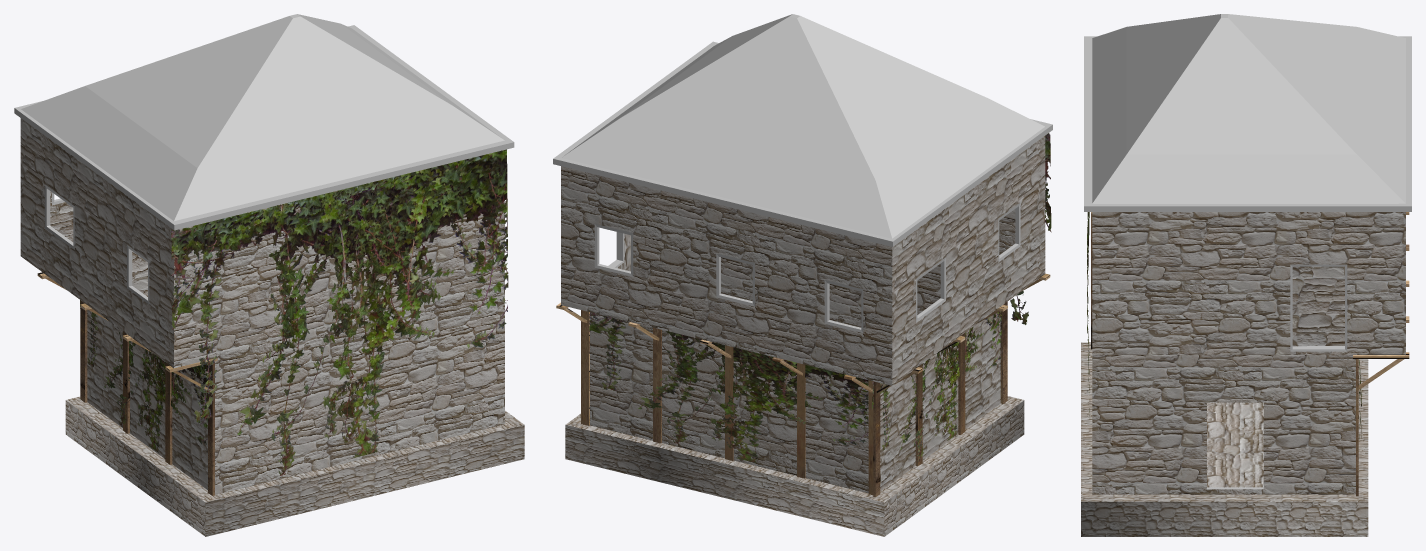
File: SM_House_5.fbx
3 renders of one model, left to right at view 1: azimuth 30°, elevation 25°; view 2: azimuth 150°, elevation 25°; view 3: azimuth 270°, elevation 25°, orthographic. The views are drawn at different scales.
Parts seen in each view (by area): view 1: vines.005; view 2: vines.005; view 3: vines.005.
Part boxes in pixels (x1,y1,x2,y2): vines.005: (14,14,524,536); vines.005: (553,14,1052,536); vines.005: (1081,14,1411,536).
Bounding box in the file's own units: 1080 × 1271 × 863.
